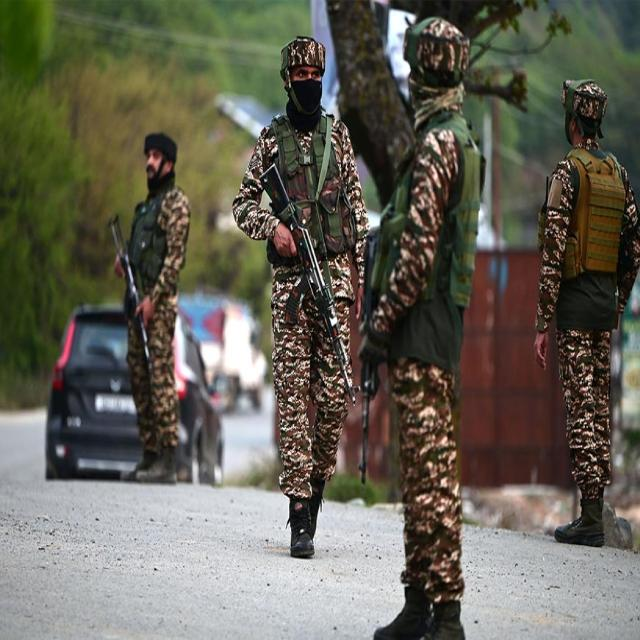Militant: (365, 2, 494, 640), (232, 40, 358, 565), (540, 70, 640, 559), (120, 110, 211, 497)
